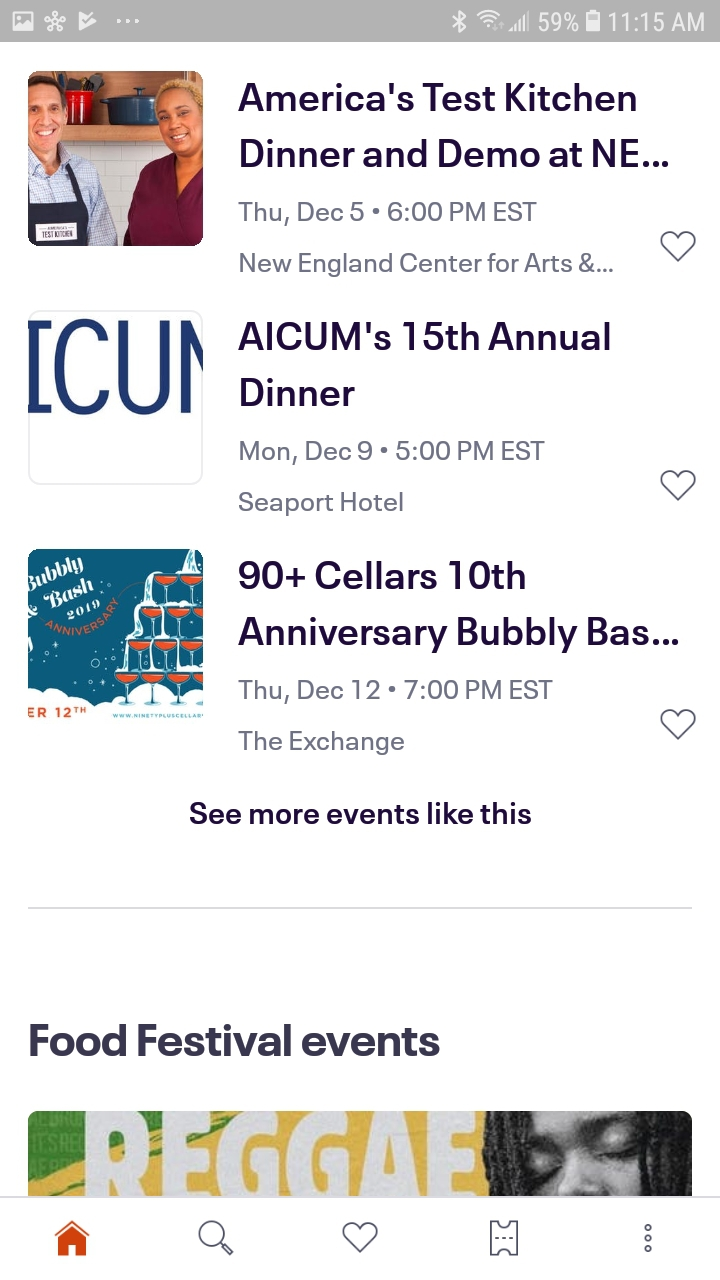Icon: (55, 1220, 91, 1256), (199, 1219, 234, 1255), (342, 1221, 379, 1253), (660, 231, 696, 263), (660, 471, 696, 502), (660, 709, 696, 740), (490, 1219, 519, 1256), (643, 1224, 653, 1253)
Image: (29, 1111, 693, 1196), (29, 71, 204, 246), (29, 311, 204, 485), (28, 549, 204, 719)
Text: (238, 561, 679, 654), (237, 83, 668, 169), (238, 321, 611, 407), (238, 202, 613, 278), (238, 679, 553, 756), (239, 440, 546, 517), (31, 1023, 441, 1057), (190, 801, 531, 825)
UpperTaskBar: (1, 1, 719, 43)
